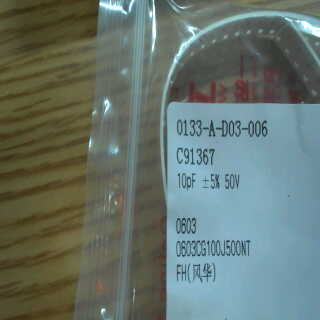10pF: (170, 167, 199, 192)
